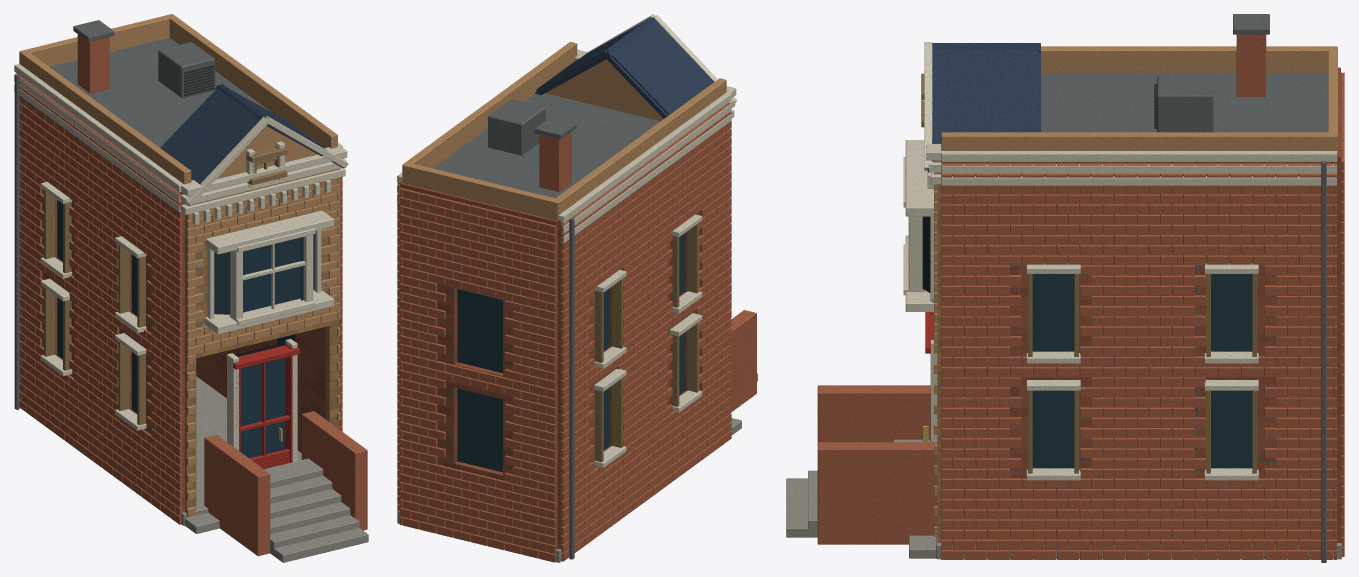
Rendered from VICT2B_lod0.glb.
The picture shows the model from 3 angles, left to right: view 1: azimuth 30°, elevation 25°; view 2: azimuth 150°, elevation 25°; view 3: azimuth 270°, elevation 25°; orthographic projection. The views are drawn at different scales.
Visible parts, largest first — view 1: VICT2B_LOD0; view 2: VICT2B_LOD0; view 3: VICT2B_LOD0.
Boxes of the visible parts, <box> form: VICT2B_LOD0: <box>14,14,368,562</box>; VICT2B_LOD0: <box>397,14,757,562</box>; VICT2B_LOD0: <box>786,14,1344,562</box>.
Size of the model in its own units: 3.71 by 7.86 by 8.46.
18 materials, 15 textured.
